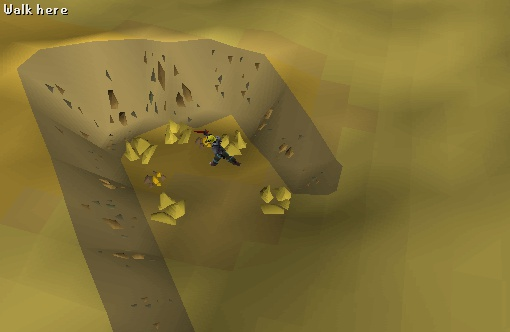gold: (255, 179, 309, 224), (155, 187, 186, 235), (117, 133, 162, 166)
